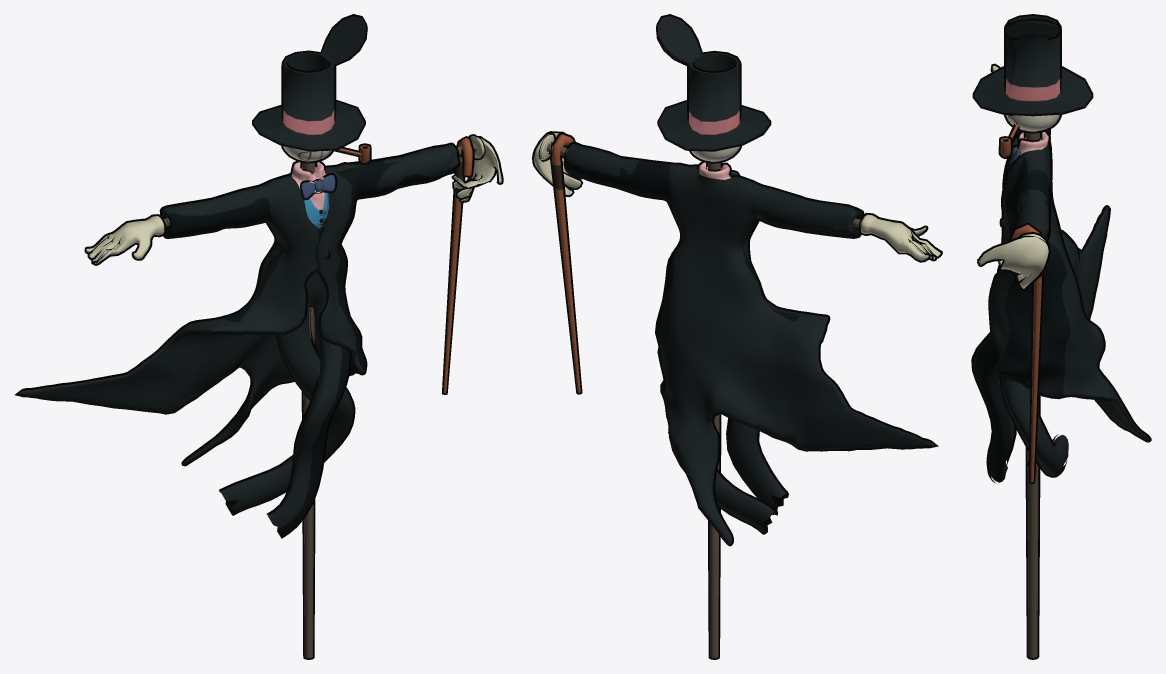
File: cabeca-de-nabo.glb
The picture shows the model from 3 angles, left to right: view 1: azimuth 30°, elevation 25°; view 2: azimuth 150°, elevation 25°; view 3: azimuth 270°, elevation 25°; orthographic projection. The views are drawn at different scales.
Visible parts, largest first — view 1: tn4; view 2: tn4; view 3: tn4.
Part boxes in pixels (<box>): tn4: <box>15,14,503,659</box>; tn4: <box>532,14,942,659</box>; tn4: <box>971,14,1151,659</box>.
Size of the model in its own units: 0.0592 by 0.0811 by 0.0199.
Materials: 2 (1 with a texture image).
